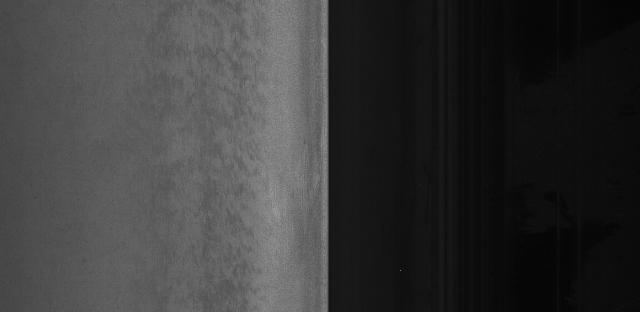silk_spot: (196, 34, 279, 275)
